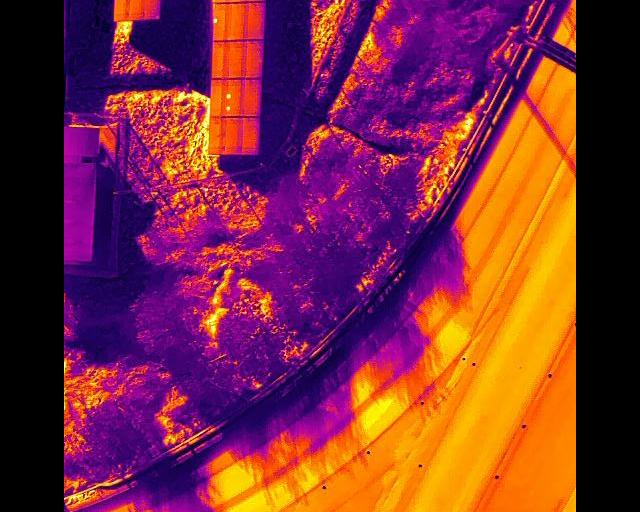Cell: (213, 2, 227, 40)
Cell-Multi: (226, 77, 244, 117)
No-Anomaly: (227, 0, 246, 39), (243, 77, 261, 117), (224, 117, 243, 154), (244, 39, 262, 78), (242, 116, 259, 154), (227, 39, 243, 79), (246, 1, 262, 40), (210, 116, 226, 153), (211, 78, 226, 117), (212, 40, 226, 78), (114, 0, 130, 20), (144, 0, 160, 18), (131, 0, 144, 20)
